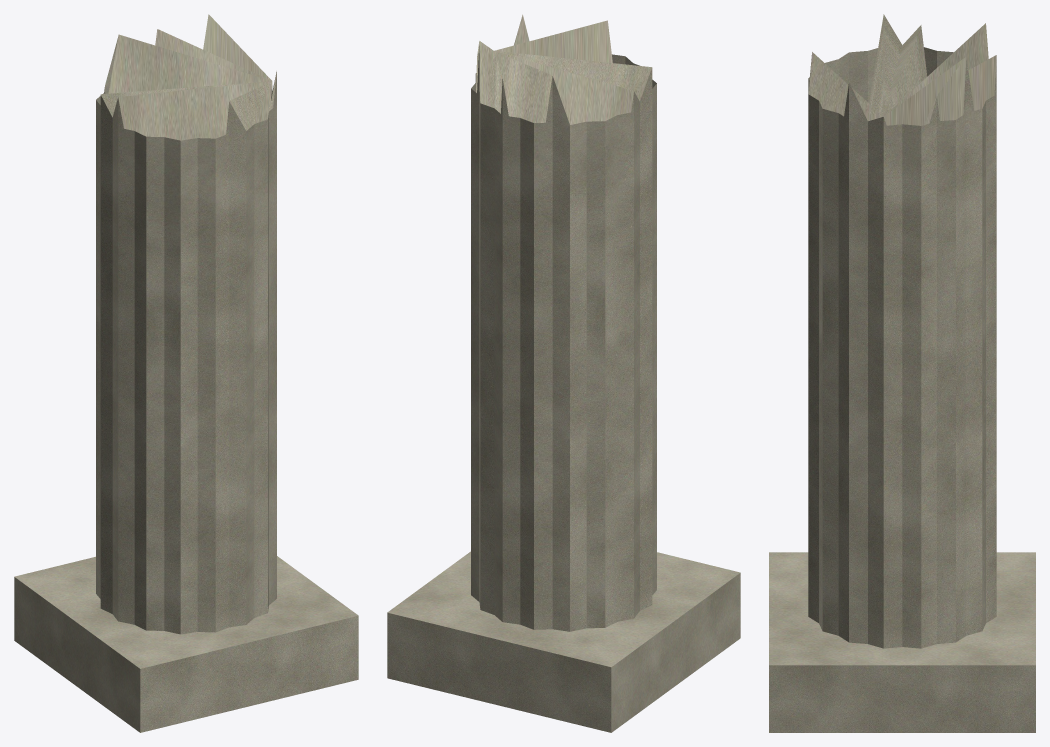
The model's file is columna_rota.fbx.
3 views of the same model, side by side, from view 1: azimuth 30°, elevation 25°; view 2: azimuth 150°, elevation 25°; view 3: azimuth 270°, elevation 25° (orthographic). The views are drawn at different scales.
Parts seen in each view (by area): view 1: columna_rota; view 2: columna_rota; view 3: columna_rota.
Boxes of the visible parts, left/top/right/bottom form: columna_rota: left=14, top=14, right=358, bottom=732; columna_rota: left=387, top=14, right=740, bottom=732; columna_rota: left=769, top=14, right=1035, bottom=732.
Bounding box in the file's own units: 1.25 × 3.34 × 1.25.
1 material, 1 textured.
